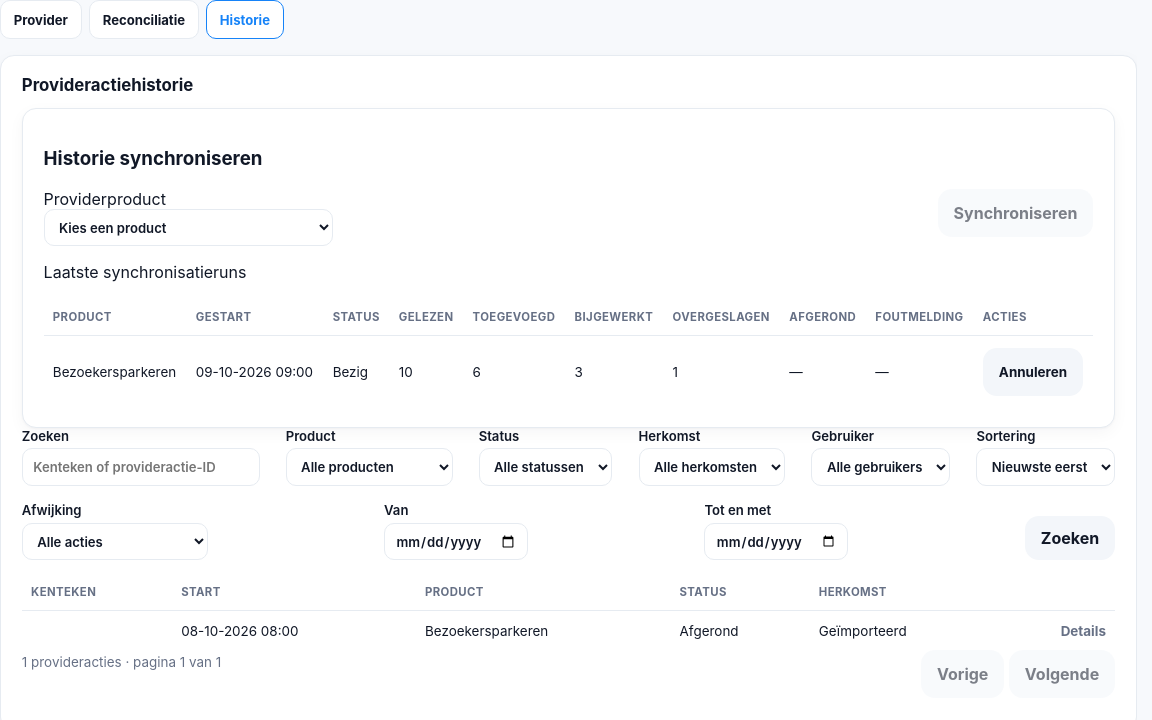
Test case: AdminProviderHistoryPage synchronization › offers cancellation for a running sync and refreshes its status
Click the button "Annuleren": point(1033, 372) [983,348,1083,396]
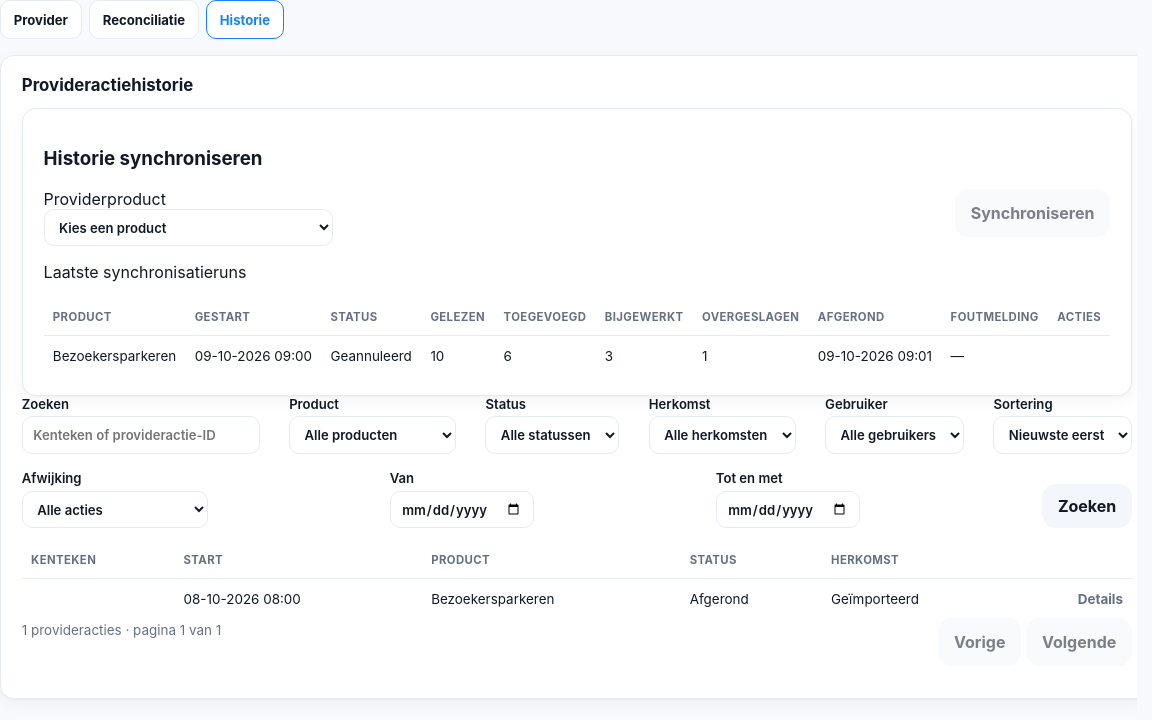
Check: the text "Geannuleerd" is shown, box [321,336,421,375]
Check: the button "Annuleren" is gone
